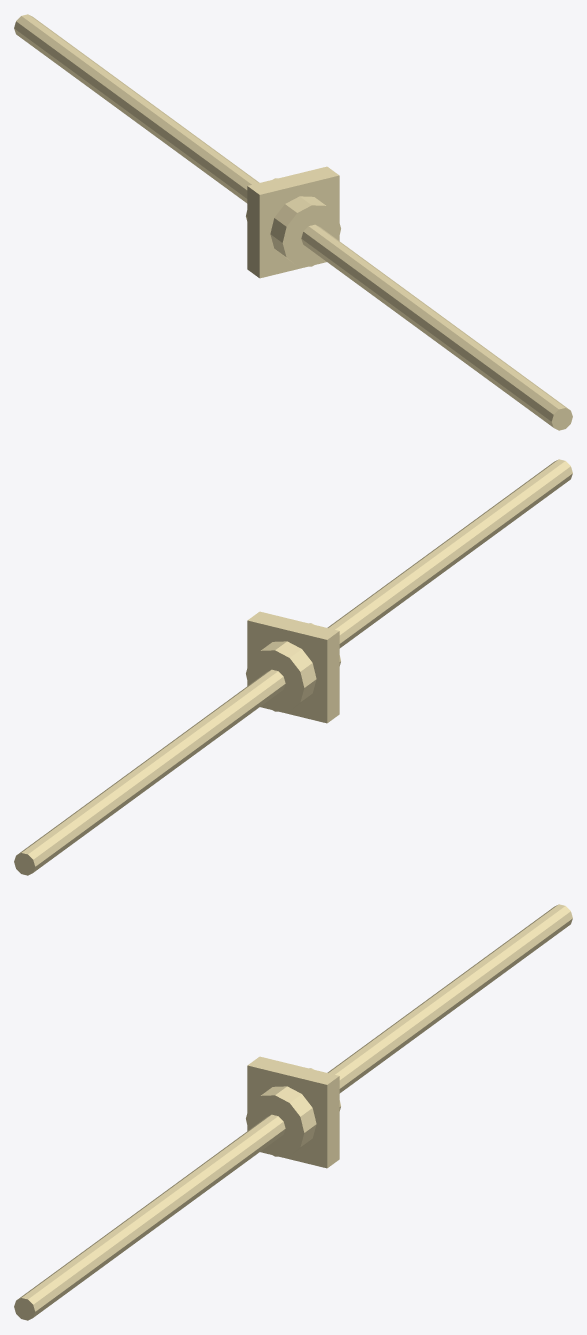
The model's file is lead_screw_tr8.glb.
3 renders of one model, top to bottom at view 1: azimuth 30°, elevation 25°; view 2: azimuth 150°, elevation 25°; view 3: azimuth 330°, elevation 25°, orthographic.
Parts seen in each view (by area): view 1: RootNode; view 2: RootNode; view 3: RootNode.
Part boxes in pixels (left/top/right/bottom): RootNode: left=14, top=14, right=572, bottom=430; RootNode: left=14, top=459, right=572, bottom=875; RootNode: left=14, top=904, right=572, bottom=1320.
Bounding box in the file's own units: 0.03 × 0.03 × 0.35.
